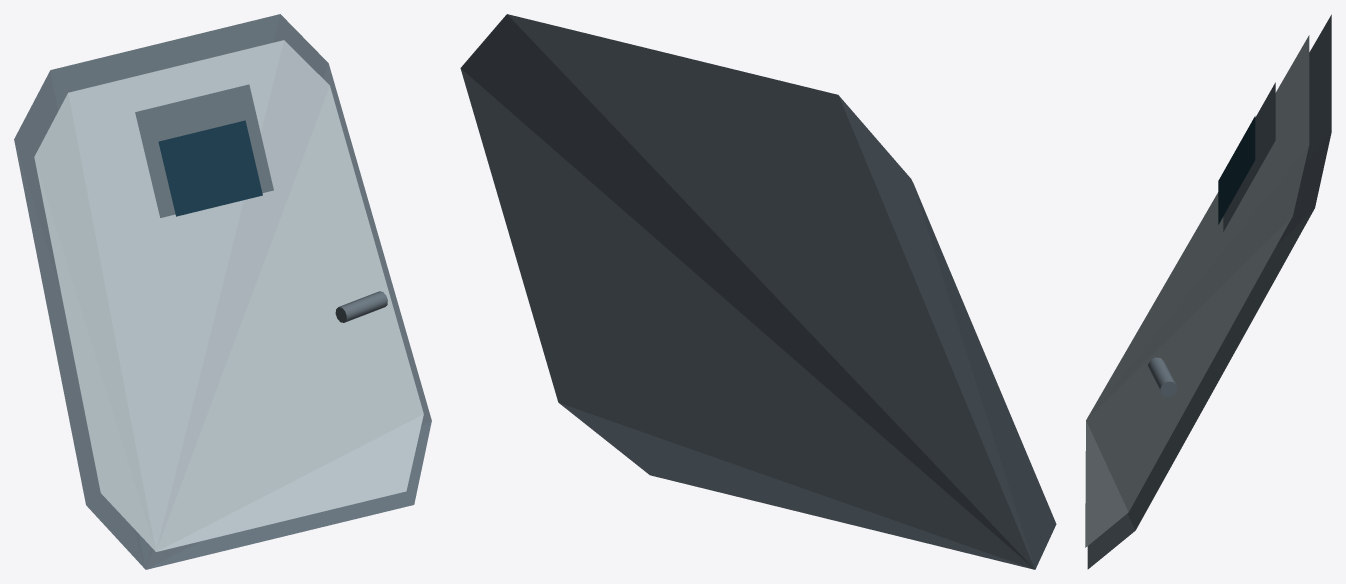
The model's file is apollo_cm.side_hatch.glb.
3 renders of one model, left to right at view 1: azimuth 30°, elevation 25°; view 2: azimuth 150°, elevation 25°; view 3: azimuth 270°, elevation 25°, orthographic. The views are drawn at different scales.
Parts seen in each view (by area): view 1: apollo_cm.side_hatch.mesh; view 2: apollo_cm.side_hatch.mesh; view 3: apollo_cm.side_hatch.mesh.
Part boxes in pixels (x1,y1,x2,y2): apollo_cm.side_hatch.mesh: (14,14,431,569); apollo_cm.side_hatch.mesh: (460,14,1056,569); apollo_cm.side_hatch.mesh: (1085,14,1331,569).
Bounding box in the file's own units: 0.9893 × 1.12 × 0.5827.
